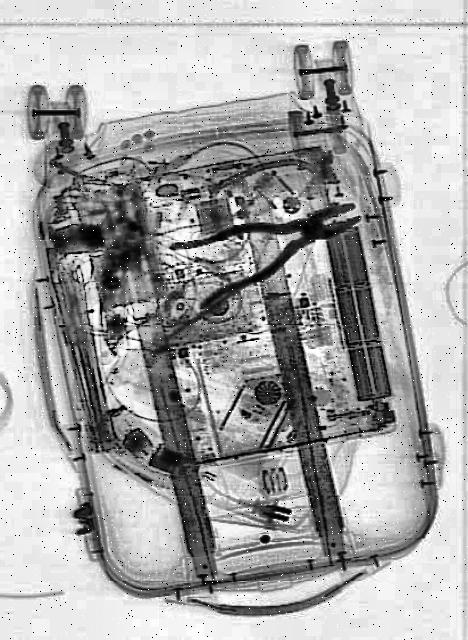Pliers: (169, 169, 370, 315)
